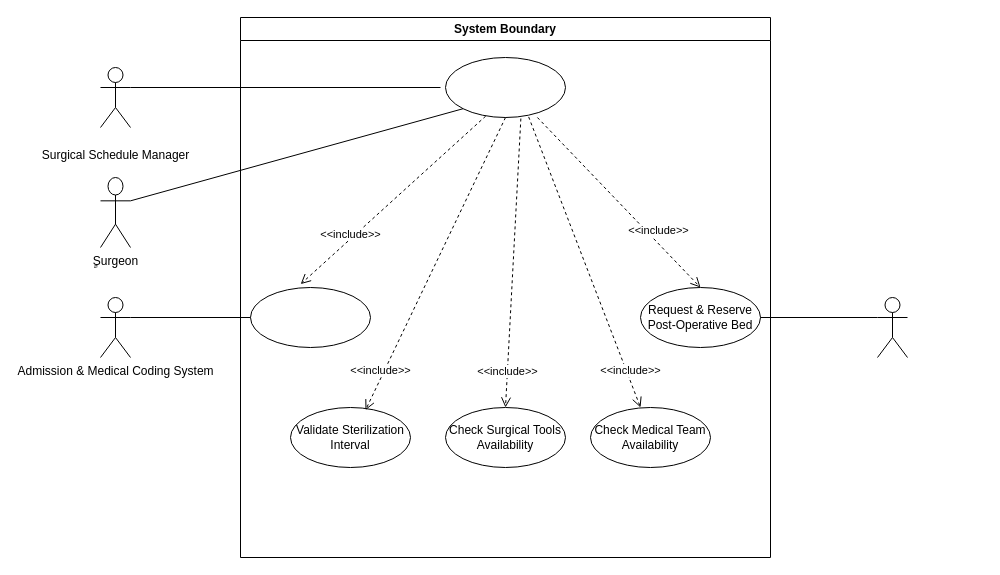
This 1000x575 diagram has some shape labels left out. The shapes that lost their labels are listed below. From the top down, each one's box as (x1, y1, x2, y2) in pixels, then its label:
(444, 56, 566, 118): Scheduling New Surgery
(250, 286, 370, 348): Verify Patient Risk Profile
(876, 296, 908, 358): Internal Bed Management System
